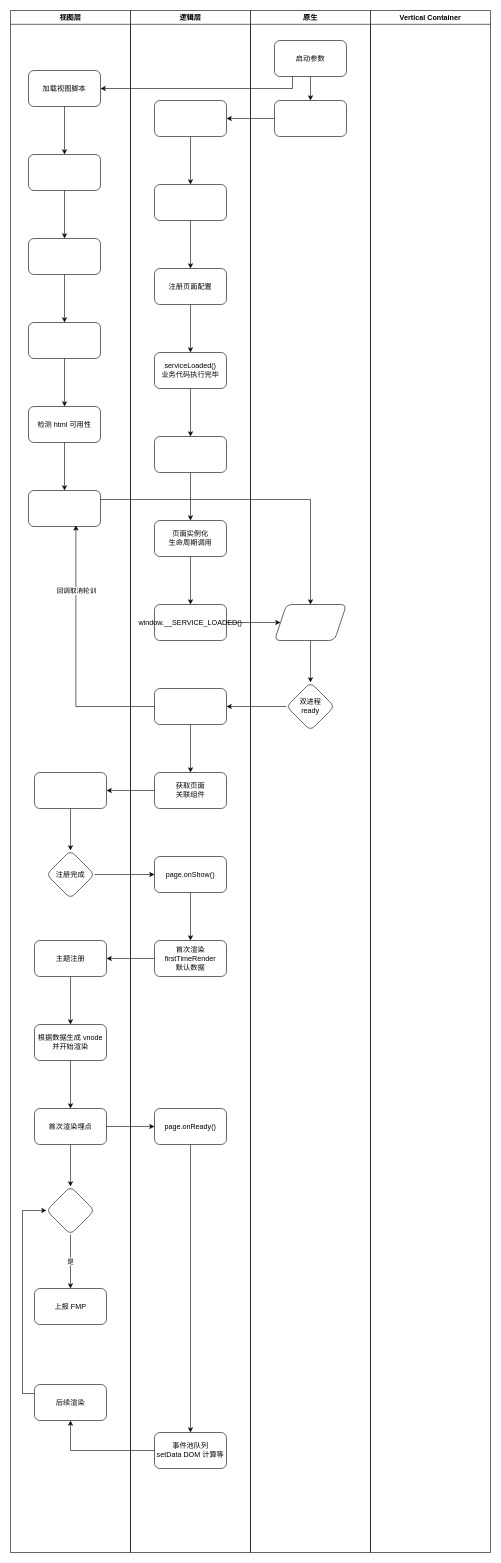
The diagram is 501 pixels wide and 1563 high, and some of its shapes have lost their labels. Here are the shapes that lost their labels. From the top down, the centre of each, then its label:
At point (190, 118): "逐个脚本注入 app.js 模板文件 page.js".
At point (310, 118): "读取 app-service.json 信息".
At point (64, 172): "组件注册 页面注册".
At point (190, 202): "App 实例化 生命周期调用".
At point (64, 256): "初始化页面 $pageLaunch()".
At point (64, 340): "样式注册 app.css page.css".
At point (190, 454): "appServiceHooks.serviceLoaded() getLaunchOptions()".
At point (64, 508): "轮训 （10*50ms） window.onViewLoad()".
At point (310, 622): "进程管理".
At point (190, 706): "视图层 ready 准备渲染".
At point (70, 790): "注册组件配置".
At point (70, 1210): "满足 FMP".
